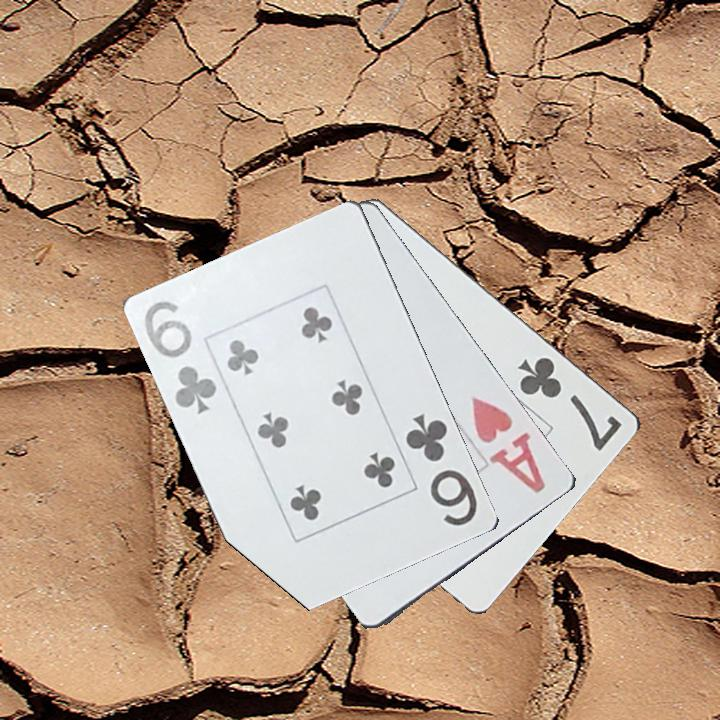6c: (141, 297, 221, 418), (402, 410, 482, 530)
7c: (514, 353, 626, 454)
Ah: (468, 393, 550, 496)
